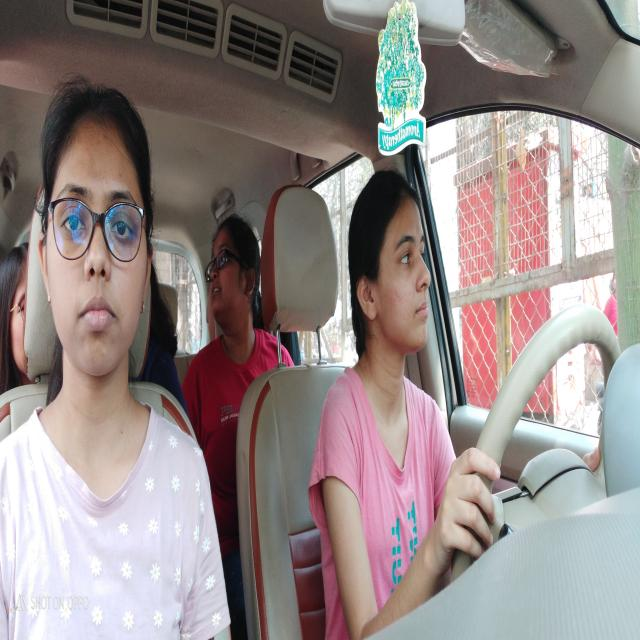person: (38, 72, 157, 387), (344, 170, 438, 363), (197, 209, 265, 351), (1, 237, 32, 388)
